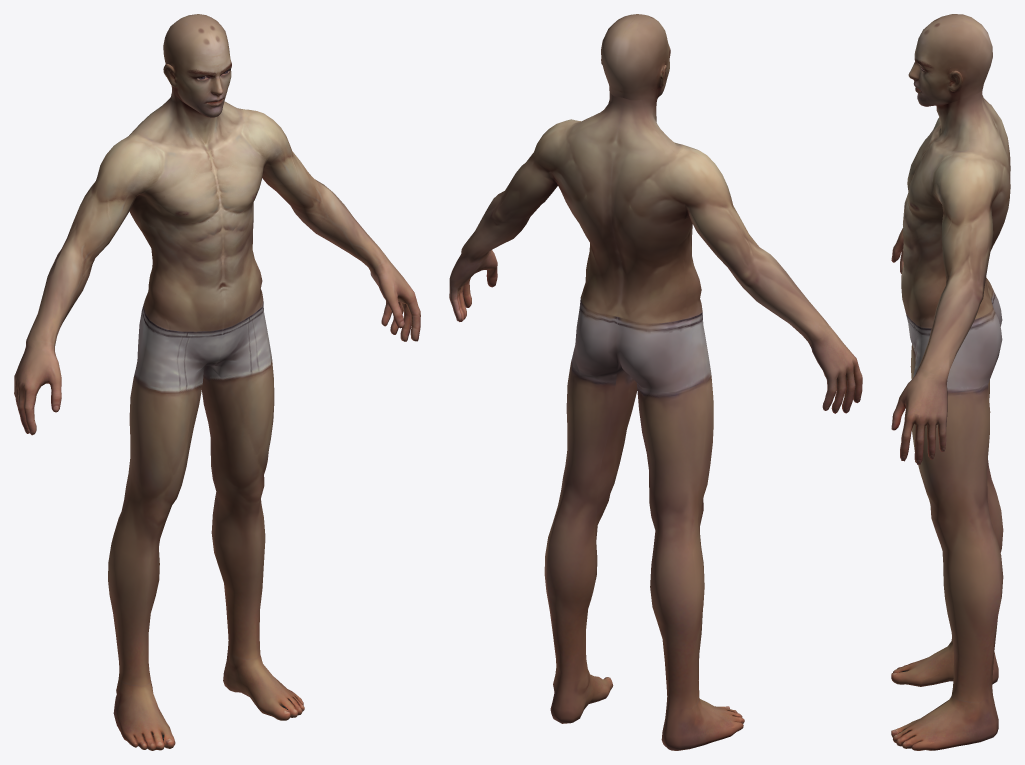
File: nan.FBX
3 renders of one model, left to right at view 1: azimuth 30°, elevation 25°; view 2: azimuth 150°, elevation 25°; view 3: azimuth 270°, elevation 25°, orthographic.
Visible parts, largest first — view 1: body, head; view 2: body, head; view 3: body, head.
Boxes of the visible parts, box(x1,y1,x2,y2) form: body: box(14, 89, 420, 750); head: box(163, 14, 231, 117); body: box(449, 93, 862, 750); head: box(601, 14, 670, 100); body: box(891, 91, 1010, 750); head: box(908, 14, 992, 106).
Bounding box in the file's own units: 87.57 × 147 × 22.95.
2 materials, 2 textured.
